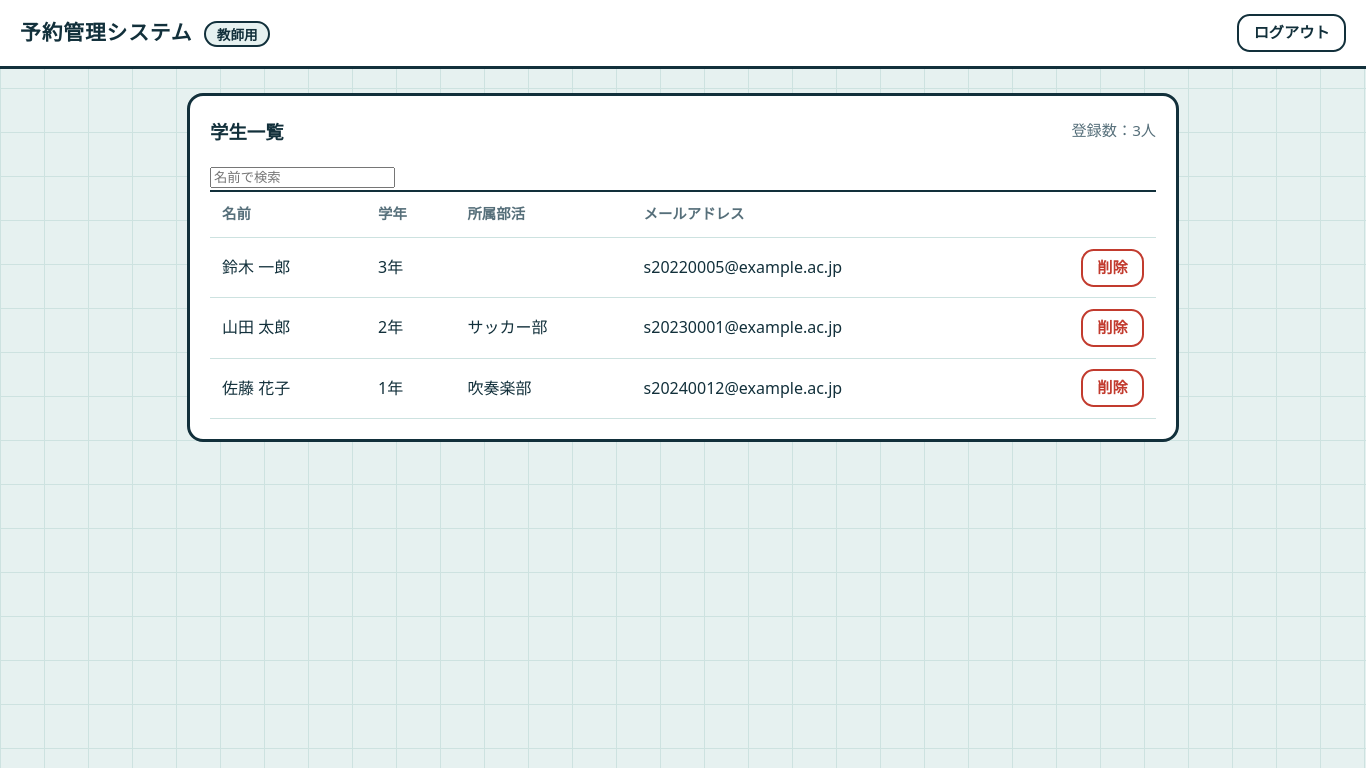
Scenario: 学生一覧画面（教師用） › すでに削除されていた場合（404）は、メッセージを表示して、一覧を取得し直す
This screenshot has width=1366, height=768.
expect the heading "学生一覧" is shown: met, box [210, 116, 284, 147]
Click the button with aria-label "佐藤 花子を削除".
click(1112, 388)  # box [1081, 369, 1144, 407]
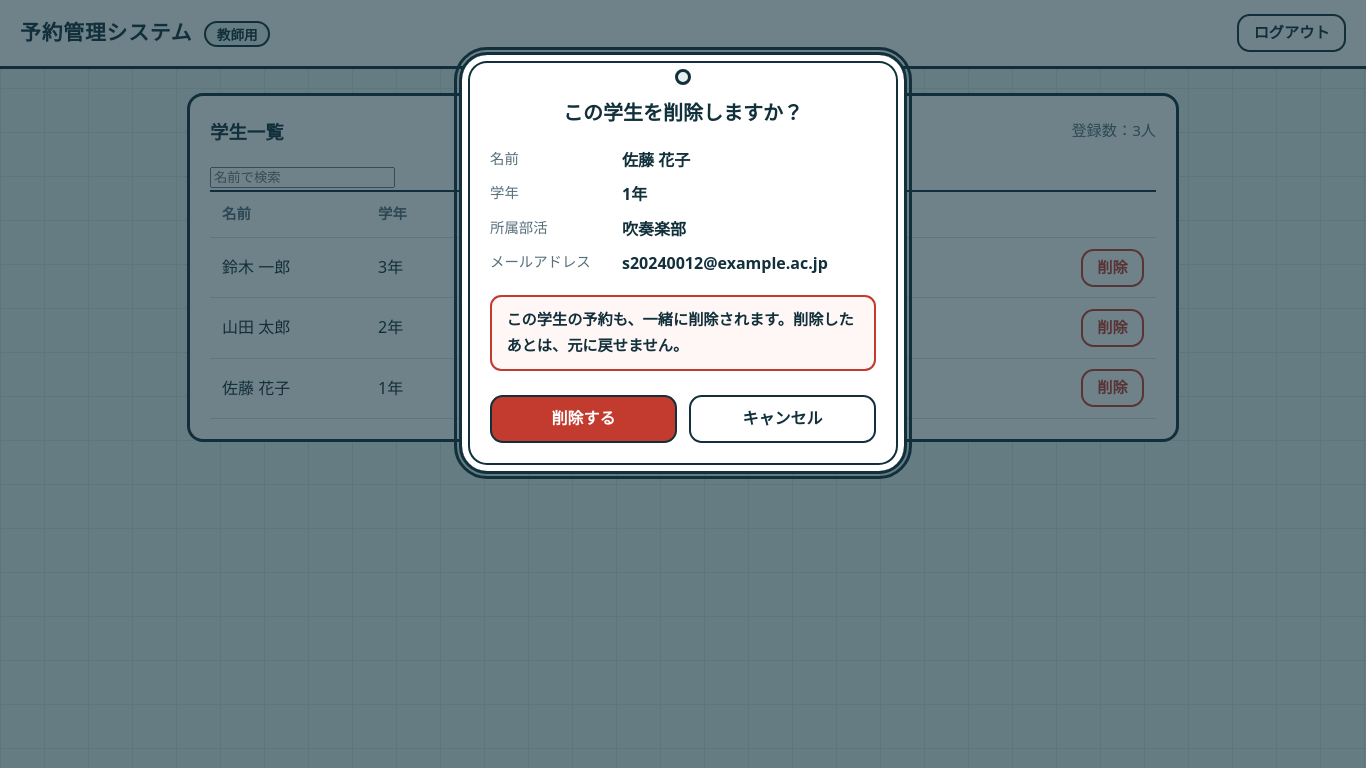
Click the button "削除する".
click(584, 419)  # box [490, 395, 677, 443]
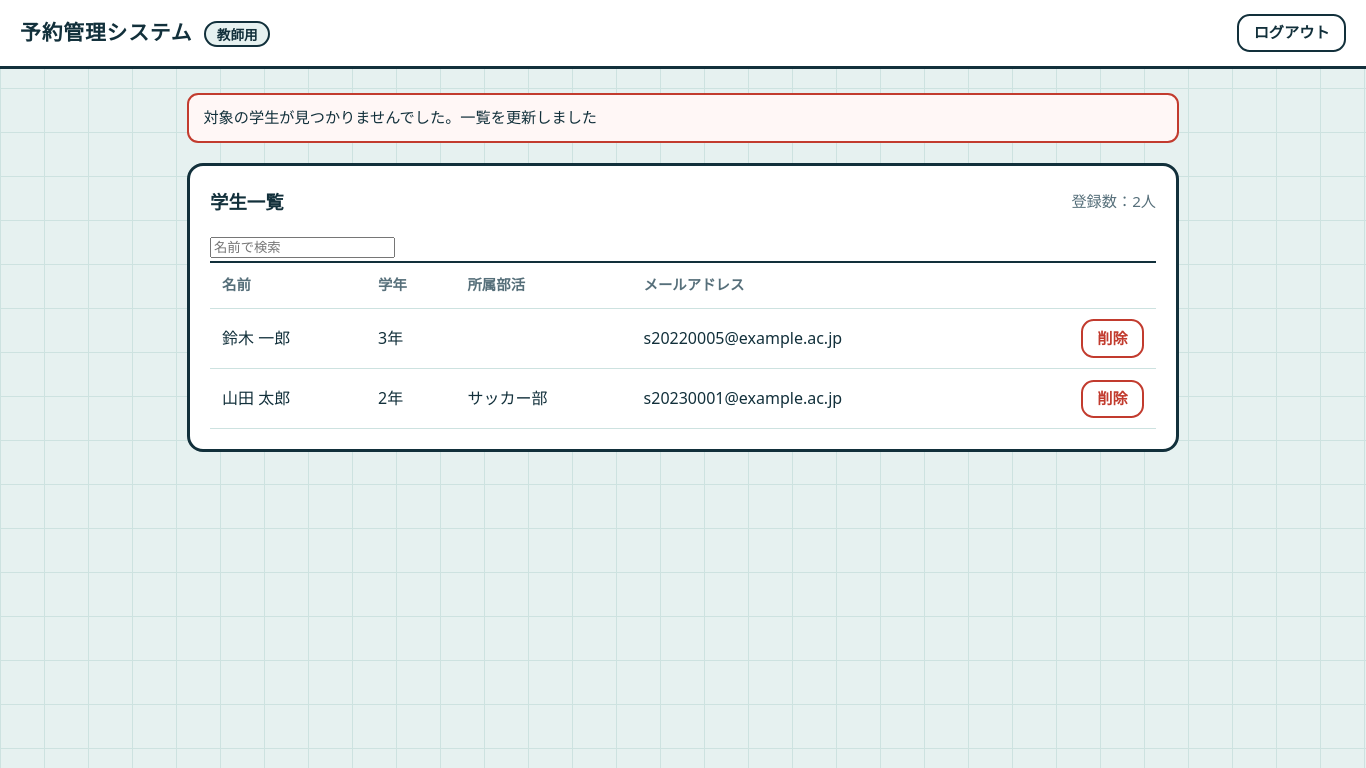
expect the message reads "対象の学生が見つかりませんでした。一覧を更新しました": met, box [203, 107, 597, 127]
expect the text "佐藤 花子" is gone: met
